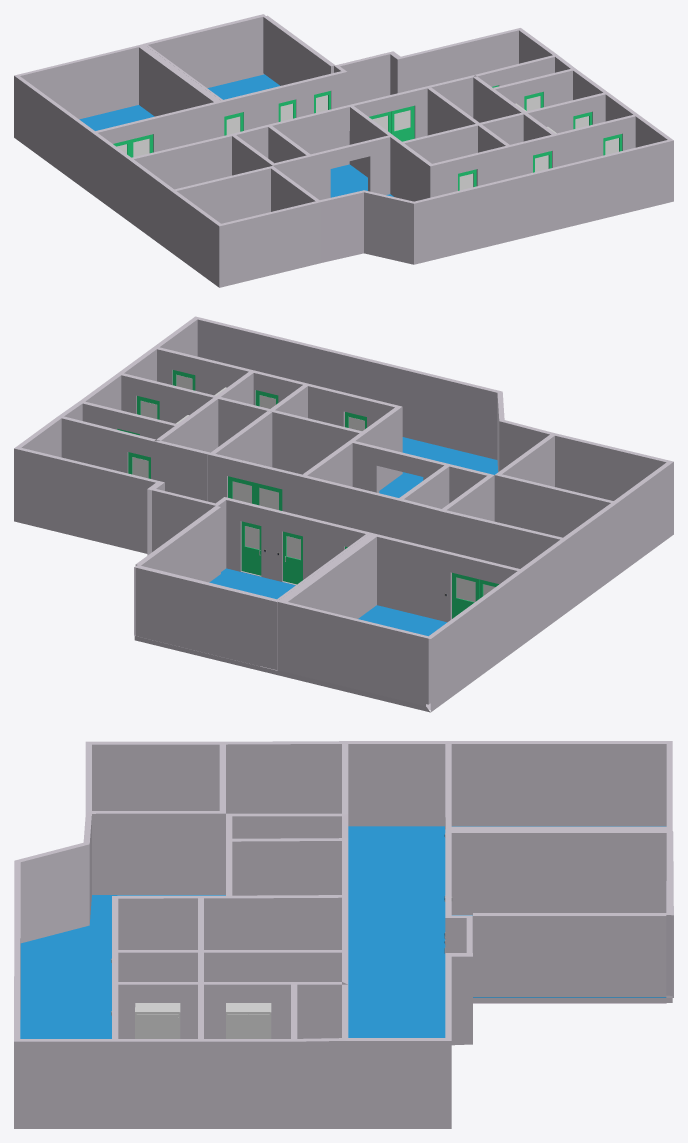
The model's file is environtment new 2.fbx.
3 renders of one model, top to bottom at view 1: azimuth 30°, elevation 25°; view 2: azimuth 150°, elevation 25°; view 3: azimuth 270°, elevation 25°, orthographic. The views are drawn at different scales.
Visible parts, largest first — view 1: Plane, jendela 1.003; view 2: Plane, jendela 1.003, pintu 2.009, pintu 2.010; view 3: Plane, Cube.004, Cube.002, Cube.005, Cube.007.
Part boxes in pixels (bbox=[...]): Plane: bbox=[14, 14, 673, 287]; jendela 1.003: bbox=[369, 105, 414, 141]; Plane: bbox=[14, 316, 673, 712]; jendela 1.003: bbox=[228, 476, 282, 510]; pintu 2.009: bbox=[241, 521, 261, 575]; pintu 2.010: bbox=[283, 531, 302, 584]; Plane: bbox=[14, 741, 673, 1128]; Cube.004: bbox=[226, 1003, 271, 1038]; Cube.002: bbox=[135, 1003, 180, 1038]; Cube.005: bbox=[136, 1014, 158, 1038]; Cube.007: bbox=[227, 1014, 249, 1038].
Bounding box in the file's own units: 4315 × 597 × 4022.
